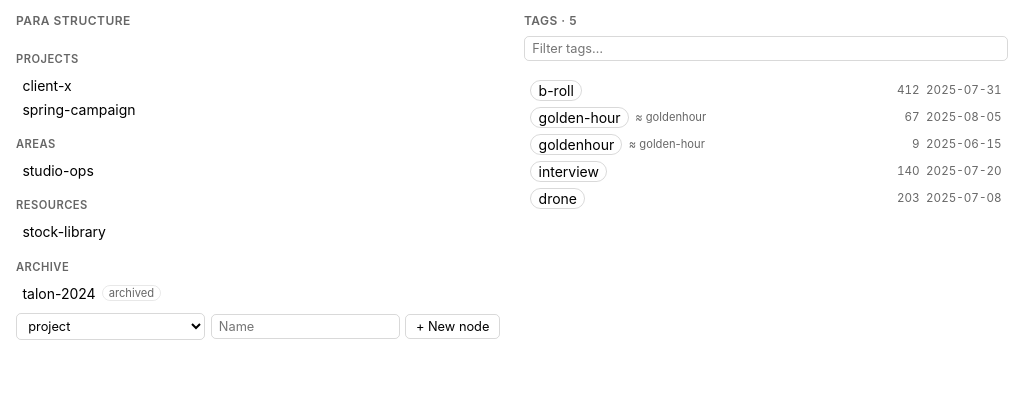
a refused rename leaves the name that was typed in the box
The width and height of the screenshot is (1024, 399).
Click the button "golden-hour ≈ goldenhour 67 2025-08-05" at coordinates (580, 117), box [524,104,1008,131]
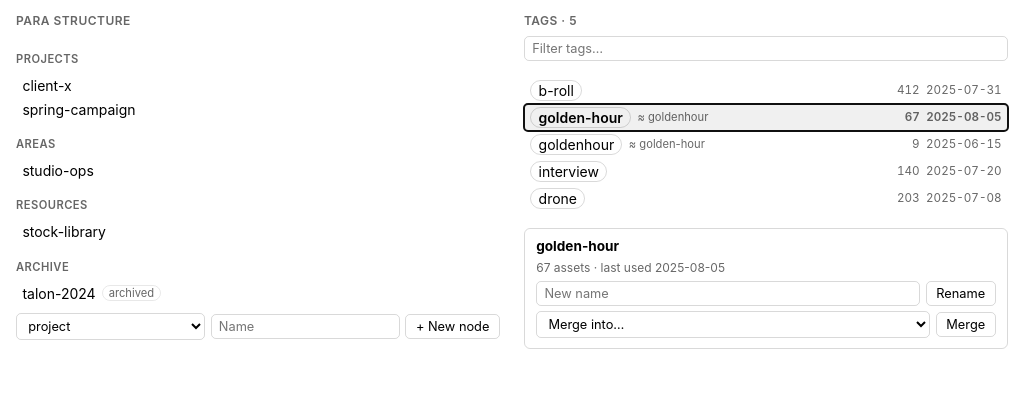
Type "golden" into the field named "New name for this tag" at coordinates (728, 293), box [536,281,920,306]
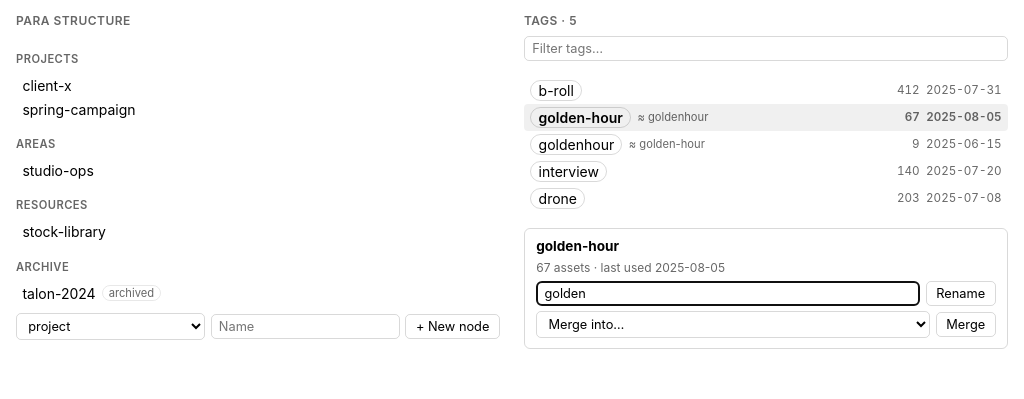
Click the button "Rename" at coordinates (961, 293), box [926,281,996,306]
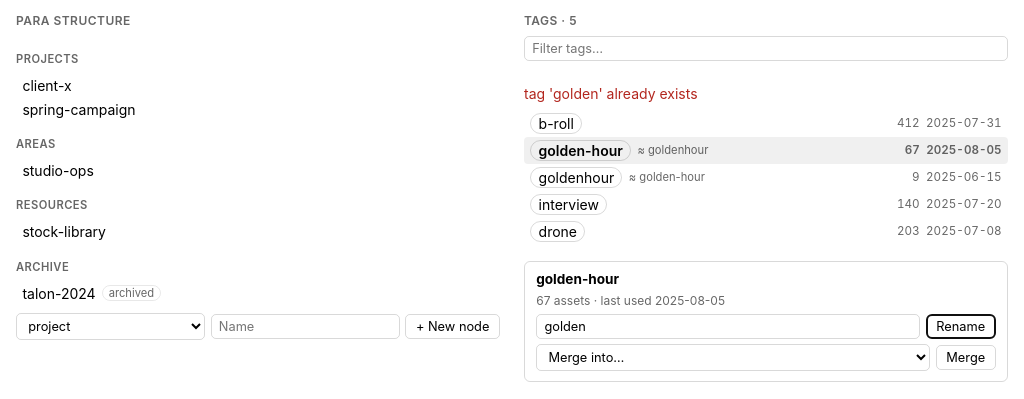
Expected: the message "tag 'golden' already exists" is shown, [524,85,698,102]
